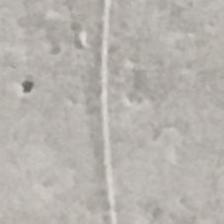Non_Crack: (61, 12, 224, 223)
